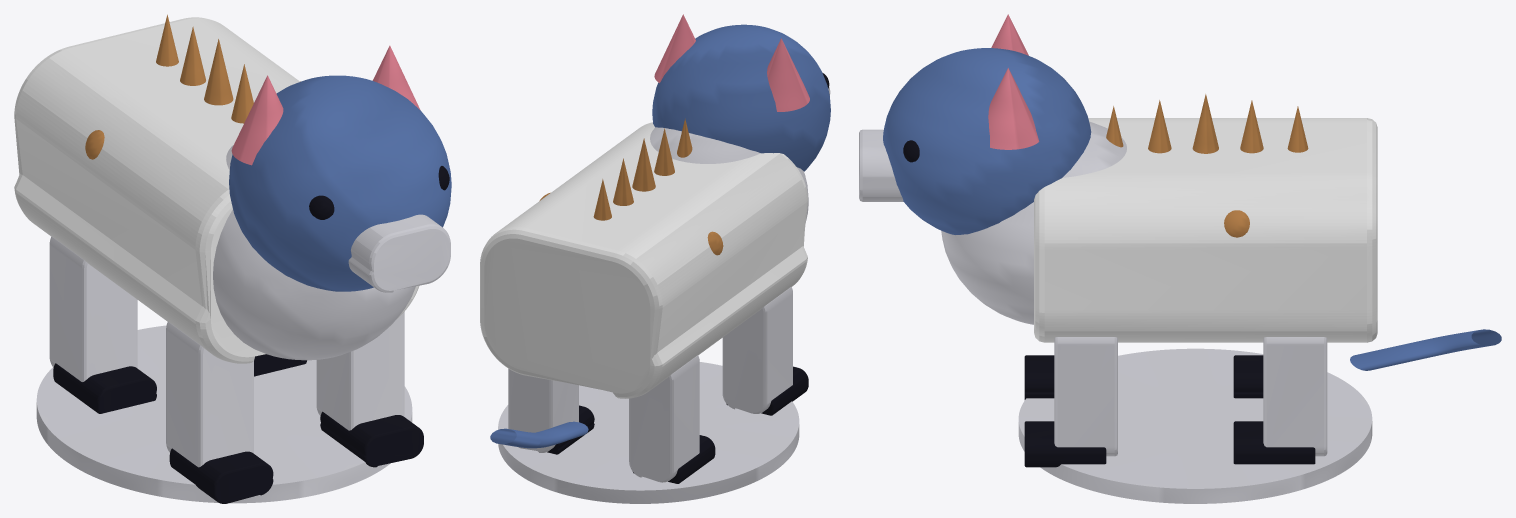
Rendered from 0897_森林动物图鉴_白鼬.glb.
3 views of the same model, side by side, from view 1: azimuth 30°, elevation 25°; view 2: azimuth 150°, elevation 25°; view 3: azimuth 270°, elevation 25° (orthographic). The views are drawn at different scales.
Parts seen in each view (by area): view 1: card_0897; view 2: card_0897; view 3: card_0897.
Part boxes in pixels (bbox=[...]): card_0897: bbox=[14, 14, 451, 503]; card_0897: bbox=[480, 14, 830, 503]; card_0897: bbox=[859, 14, 1501, 503].
Size of the model in its own units: 0.7647 by 1 by 1.48.
